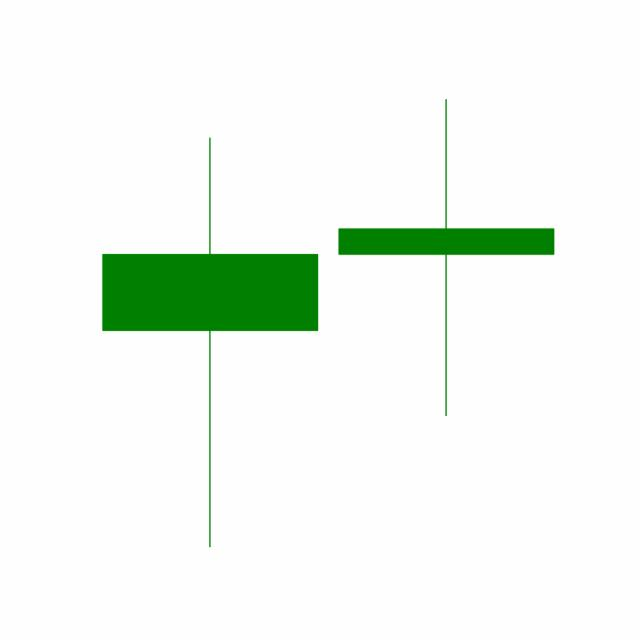Spinning Top: (327, 95, 565, 419)
